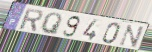0: (101, 22, 122, 44)
4: (82, 18, 99, 41)
9: (62, 15, 81, 38)
N: (117, 24, 145, 49)
Q: (39, 12, 63, 36)
R: (18, 7, 44, 32)
